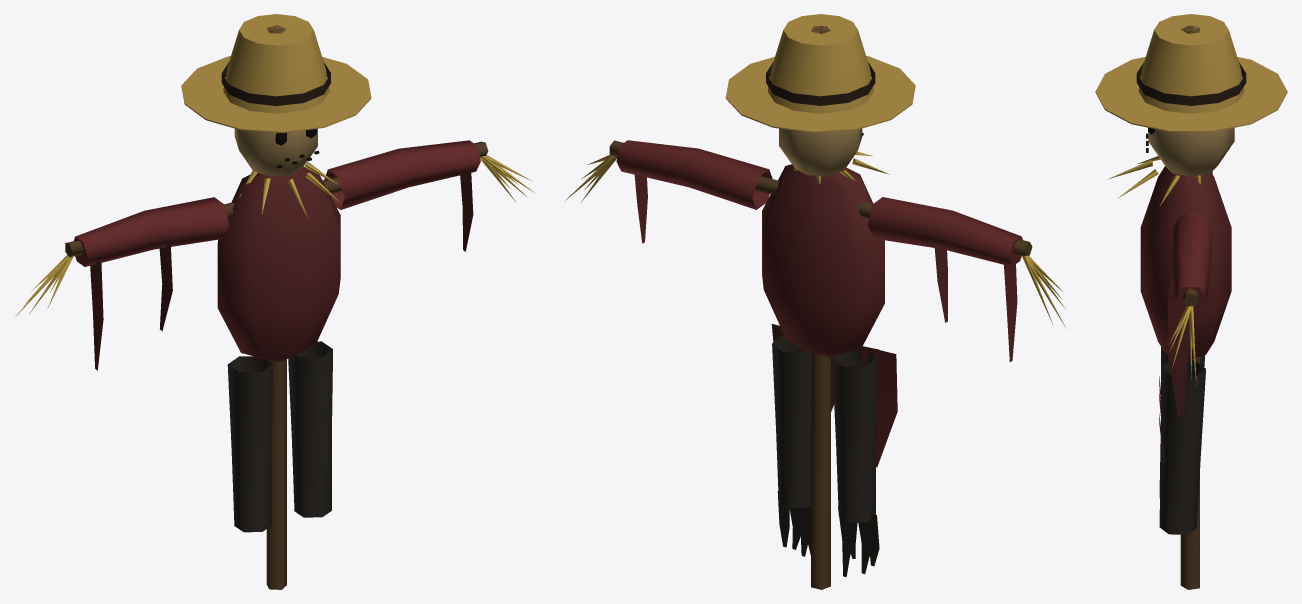
The model's file is orang_orangan_sawah.glb.
3 renders of one model, left to right at view 1: azimuth 30°, elevation 25°; view 2: azimuth 150°, elevation 25°; view 3: azimuth 270°, elevation 25°, orthographic.
Parts seen in each view (by area): view 1: orang_orangan_sawah; view 2: orang_orangan_sawah; view 3: orang_orangan_sawah.
Part boxes in pixels (x1=…): orang_orangan_sawah: x1=15, y1=14, x2=535, y2=589; orang_orangan_sawah: x1=565, y1=14, x2=1066, y2=589; orang_orangan_sawah: x1=1095, y1=14, x2=1287, y2=589.
Size of the model in its own units: 2.2 by 2.3 by 0.72.
